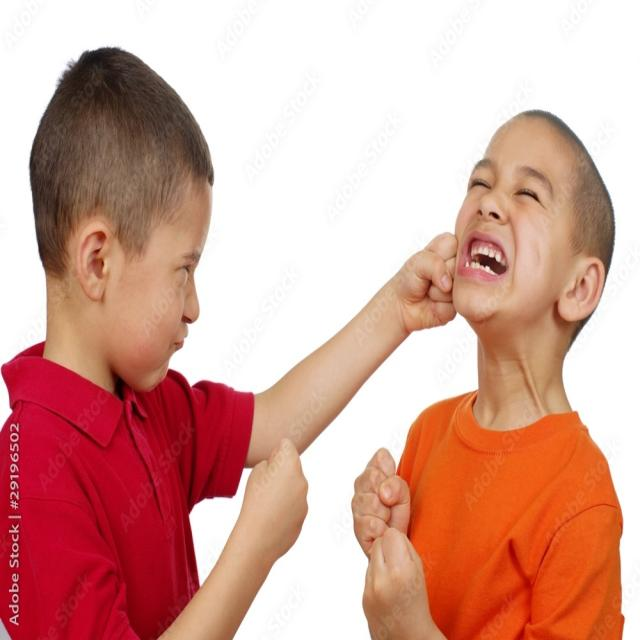fight: (31, 45, 620, 486)
